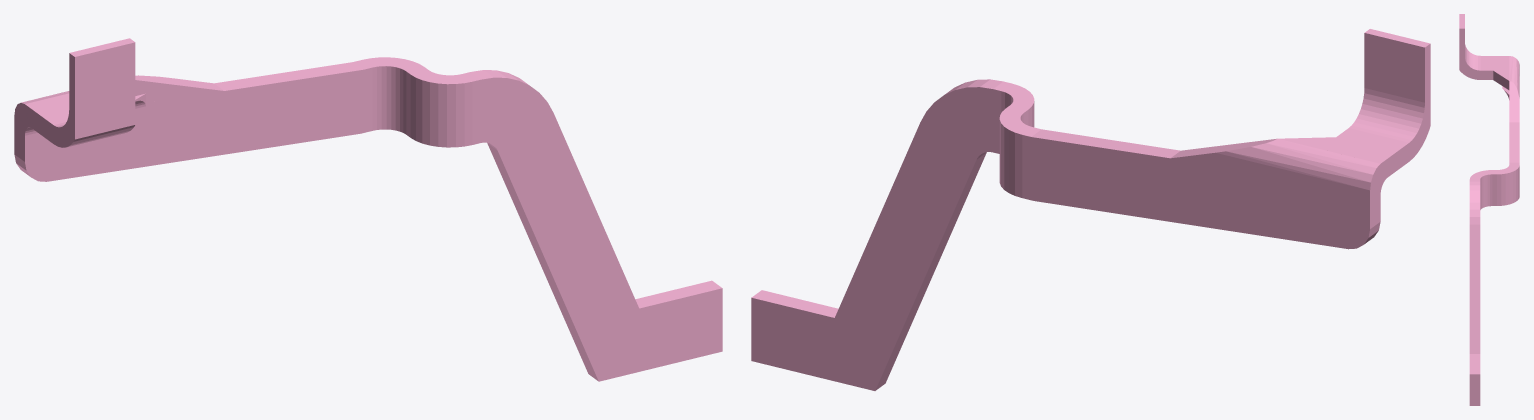
The model's file is Serv-Z0-Sec15-cut1.glb.
3 views of the same model, side by side, from view 1: azimuth 30°, elevation 25°; view 2: azimuth 150°, elevation 25°; view 3: azimuth 270°, elevation 25° (orthographic). The views are drawn at different scales.
Parts seen in each view (by area): view 1: Serv-Z0-Sec15-cut1; view 2: Serv-Z0-Sec15-cut1; view 3: Serv-Z0-Sec15-cut1.
Part boxes in pixels (x1,y1,x2,y2): Serv-Z0-Sec15-cut1: (14,38,722,381); Serv-Z0-Sec15-cut1: (751,29,1430,390); Serv-Z0-Sec15-cut1: (1459,14,1519,405).
Size of the model in its own units: 5.44 by 3.65 by 0.865.
